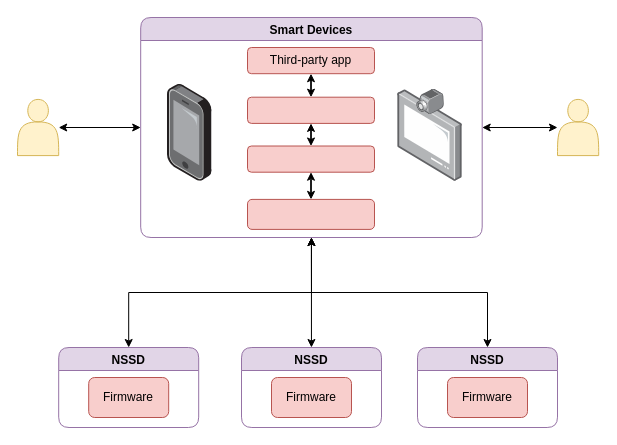
The diagram is 617 pixels wide and 445 high, and some of its shapes have lost their labels. Each missing label, with the centre of its shape:
"Sifis Controller" goes at (x=310, y=109).
"Sifis Supervisor" goes at (x=310, y=158).
"WebThings/Fiware" goes at (x=310, y=213).
